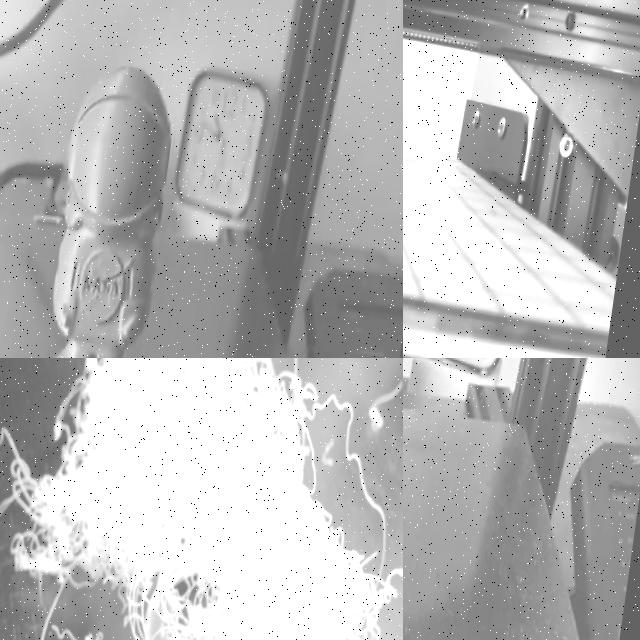spaghetti: (9, 358, 398, 640), (359, 366, 403, 445)
